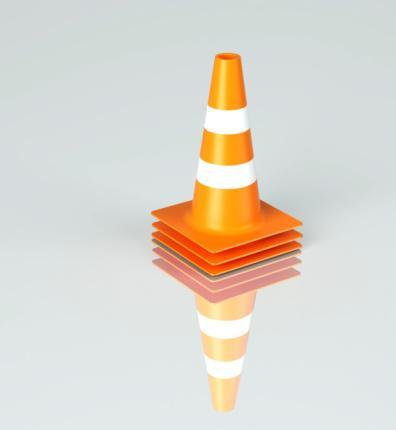Cone: (150, 52, 302, 286)
